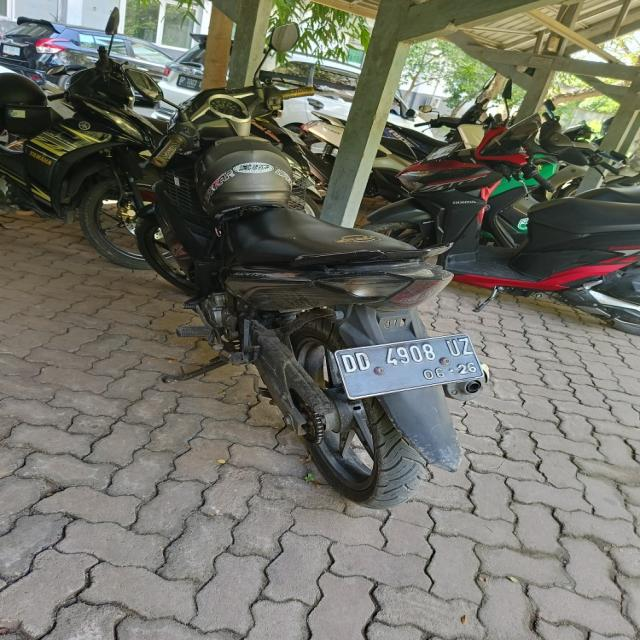plates: (337, 338, 484, 402)
